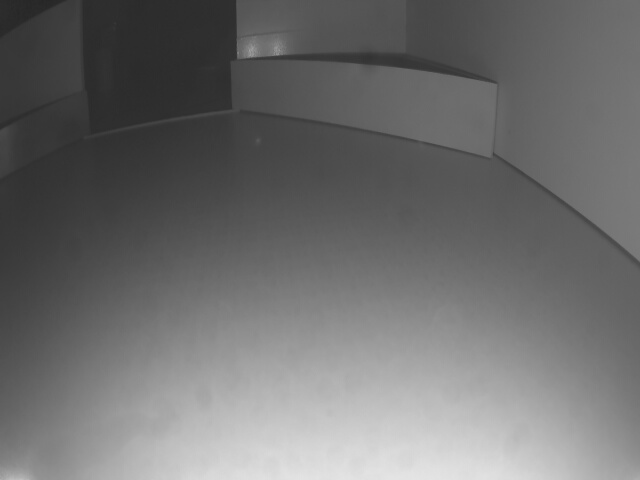Green: (0, 93, 87, 179)
Red: (230, 61, 498, 158)
